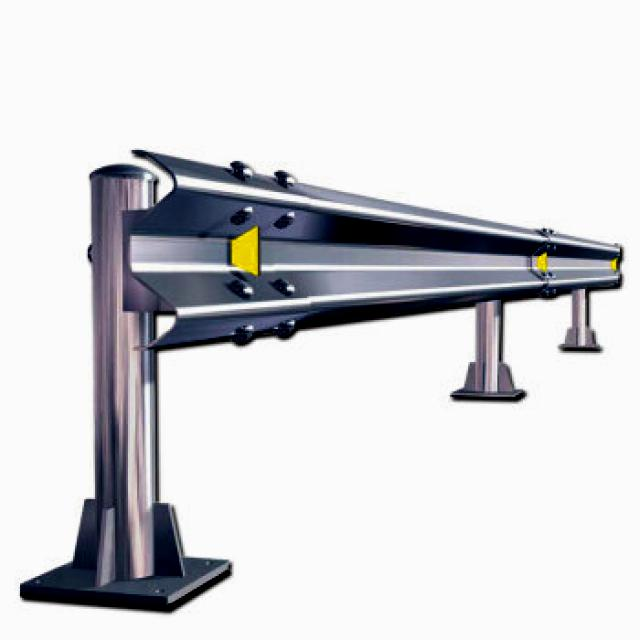Guard rail: (21, 150, 621, 607)
